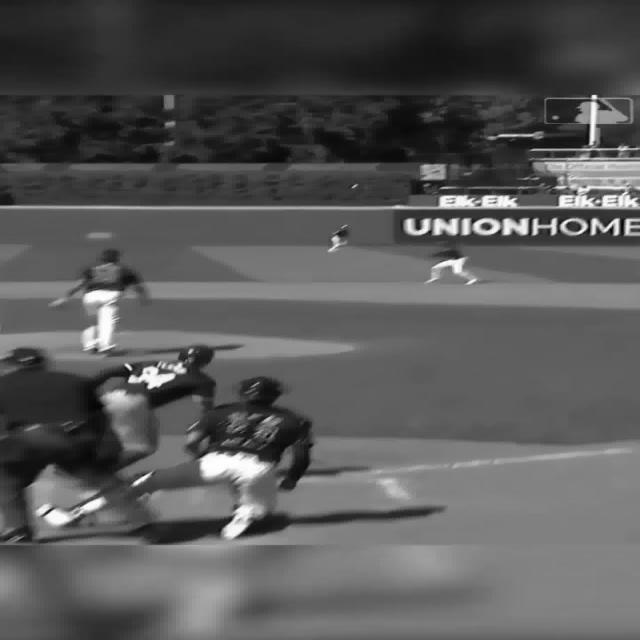baseball: (349, 183, 359, 189)
baseball_glove: (47, 297, 67, 308)
shoe: (219, 504, 265, 540), (35, 503, 85, 528), (122, 492, 152, 532), (0, 526, 33, 543), (124, 522, 154, 536), (97, 345, 129, 356), (464, 278, 478, 284), (424, 278, 438, 283)
